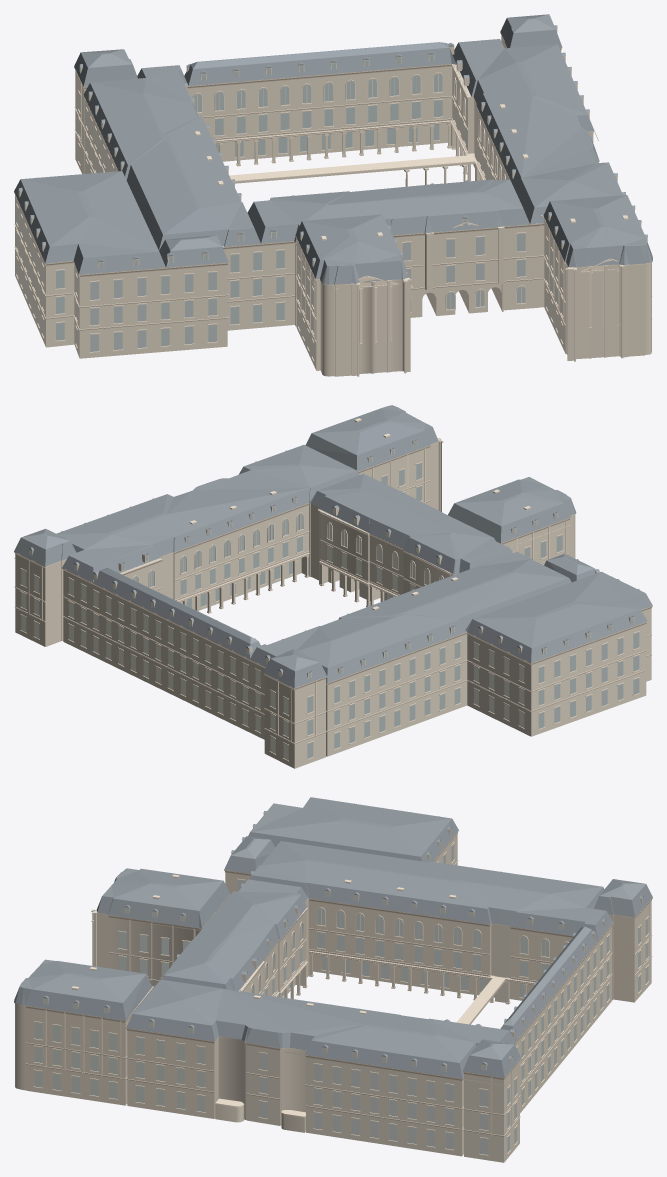
Rendered from detail.glb.
3 views of the same model, one above another, from view 1: azimuth 30°, elevation 25°; view 2: azimuth 150°, elevation 25°; view 3: azimuth 270°, elevation 25° (orthographic). The views are drawn at different scales.
Parts seen in each view (by area): view 1: roof, stone, trim, window; view 2: roof, stone, window, trim; view 3: roof, stone, window, trim.
Boxes of the visible parts, x1=… form: roof: x1=14, y1=14, x2=652, y2=284; stone: x1=15, y1=28, x2=651, y2=376; trim: x1=14, y1=32, x2=652, y2=361; window: x1=17, y1=55, x2=562, y2=359; roof: x1=14, y1=405, x2=652, y2=688; stone: x1=15, y1=421, x2=651, y2=768; window: x1=21, y1=441, x2=639, y2=760; trim: x1=14, y1=418, x2=652, y2=761; roof: x1=14, y1=797, x2=652, y2=1078; stone: x1=15, y1=813, x2=651, y2=1162; window: x1=34, y1=829, x2=648, y2=1154; trim: x1=14, y1=830, x2=652, y2=1155.
Bounding box in the file's own units: 171 × 30 × 166.
